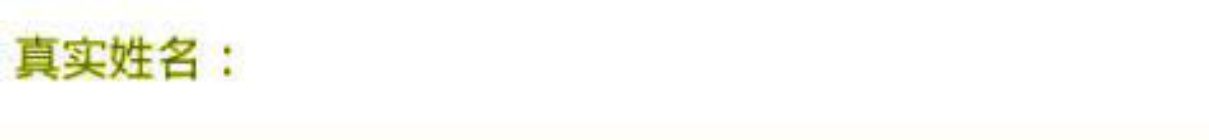EditText: (1, 1, 1208, 139)
